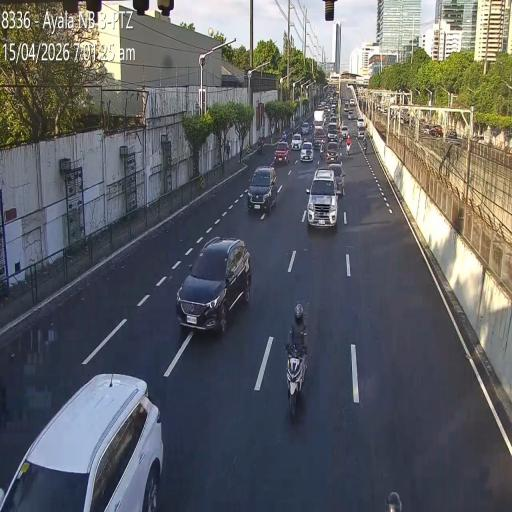Car: (0, 372, 162, 510), (176, 238, 250, 334), (306, 167, 339, 228), (246, 164, 278, 216), (328, 162, 344, 196), (274, 140, 290, 164), (325, 141, 339, 164), (300, 141, 314, 162), (314, 128, 326, 150), (290, 133, 302, 150), (426, 126, 443, 138), (300, 121, 310, 136), (340, 125, 349, 139)
Motor: (358, 129, 367, 152)
